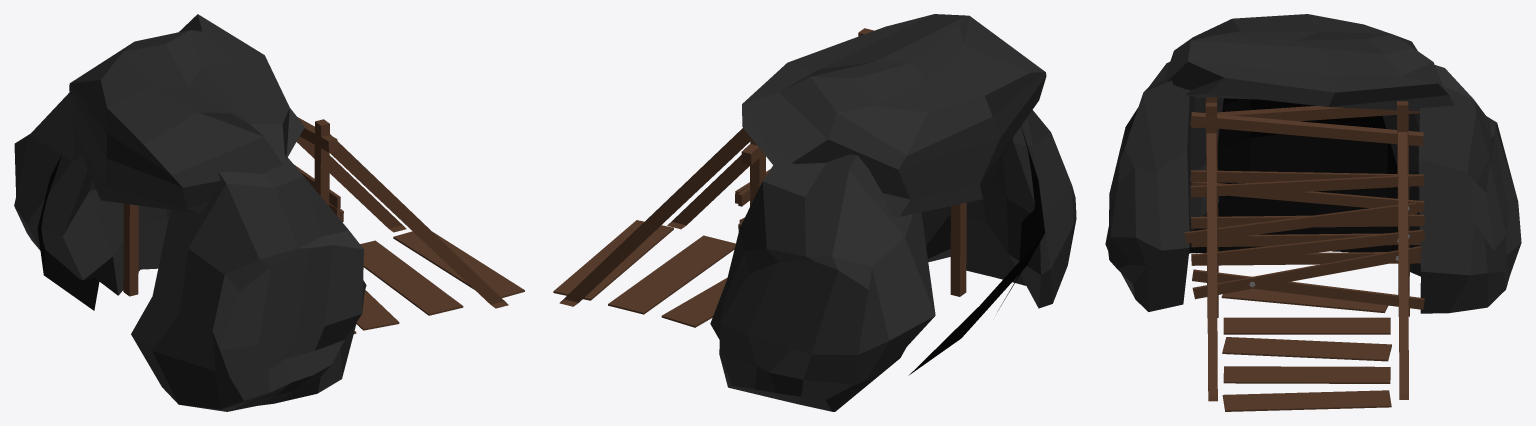
File: cave_entrance2.fbx
3 renders of one model, left to right at view 1: azimuth 30°, elevation 25°; view 2: azimuth 150°, elevation 25°; view 3: azimuth 270°, elevation 25°, orthographic. The views are drawn at different scales.
Parts seen in each view (by area): view 1: Cube.005, Cube.007, Cube.001, Cube.012, Cube.003, Cube.004, Plane, Cube.002; view 2: Cube.001, Cube.007, Cube.005, Cube.012, Cube.003, Plane, Cube.004, Cube.002; view 3: Cube.012, Cube.007, Cube.001, Cube.005, Plane, Cube, Cube.003, Cube.004, Cube.002, Cube.006.
Boxes of the visible parts, box(x1,y1,x2,y2) form: Cube.005: box(131, 155, 366, 411); Cube.007: box(69, 14, 304, 213); Cube.001: box(14, 92, 171, 295); Cube.012: box(123, 117, 508, 308); Cube.003: box(360, 240, 463, 315); Cube.004: box(393, 231, 524, 297); Plane: box(37, 155, 99, 310); Cube.002: box(356, 290, 399, 330); Cube.001: box(710, 151, 935, 411); Cube.007: box(742, 14, 1046, 216); Cube.005: box(921, 110, 1076, 308); Cube.012: box(559, 28, 966, 306); Cube.003: box(608, 235, 735, 314); Plane: box(908, 126, 1045, 375); Cube.004: box(553, 220, 673, 300); Cube.002: box(661, 277, 727, 327); Cube.012: box(1184, 97, 1424, 401); Cube.007: box(1163, 14, 1453, 111); Cube.001: box(1382, 65, 1521, 313); Cube.005: box(1105, 62, 1223, 311); Plane: box(1189, 98, 1413, 253); Cube: box(1223, 317, 1390, 334); Cube.003: box(1223, 366, 1390, 383); Cube.004: box(1222, 390, 1391, 411); Cube.002: box(1222, 337, 1391, 361); Cube.006: box(1221, 288, 1388, 312).
Bounding box in the file's own units: 664 × 402 × 609.
